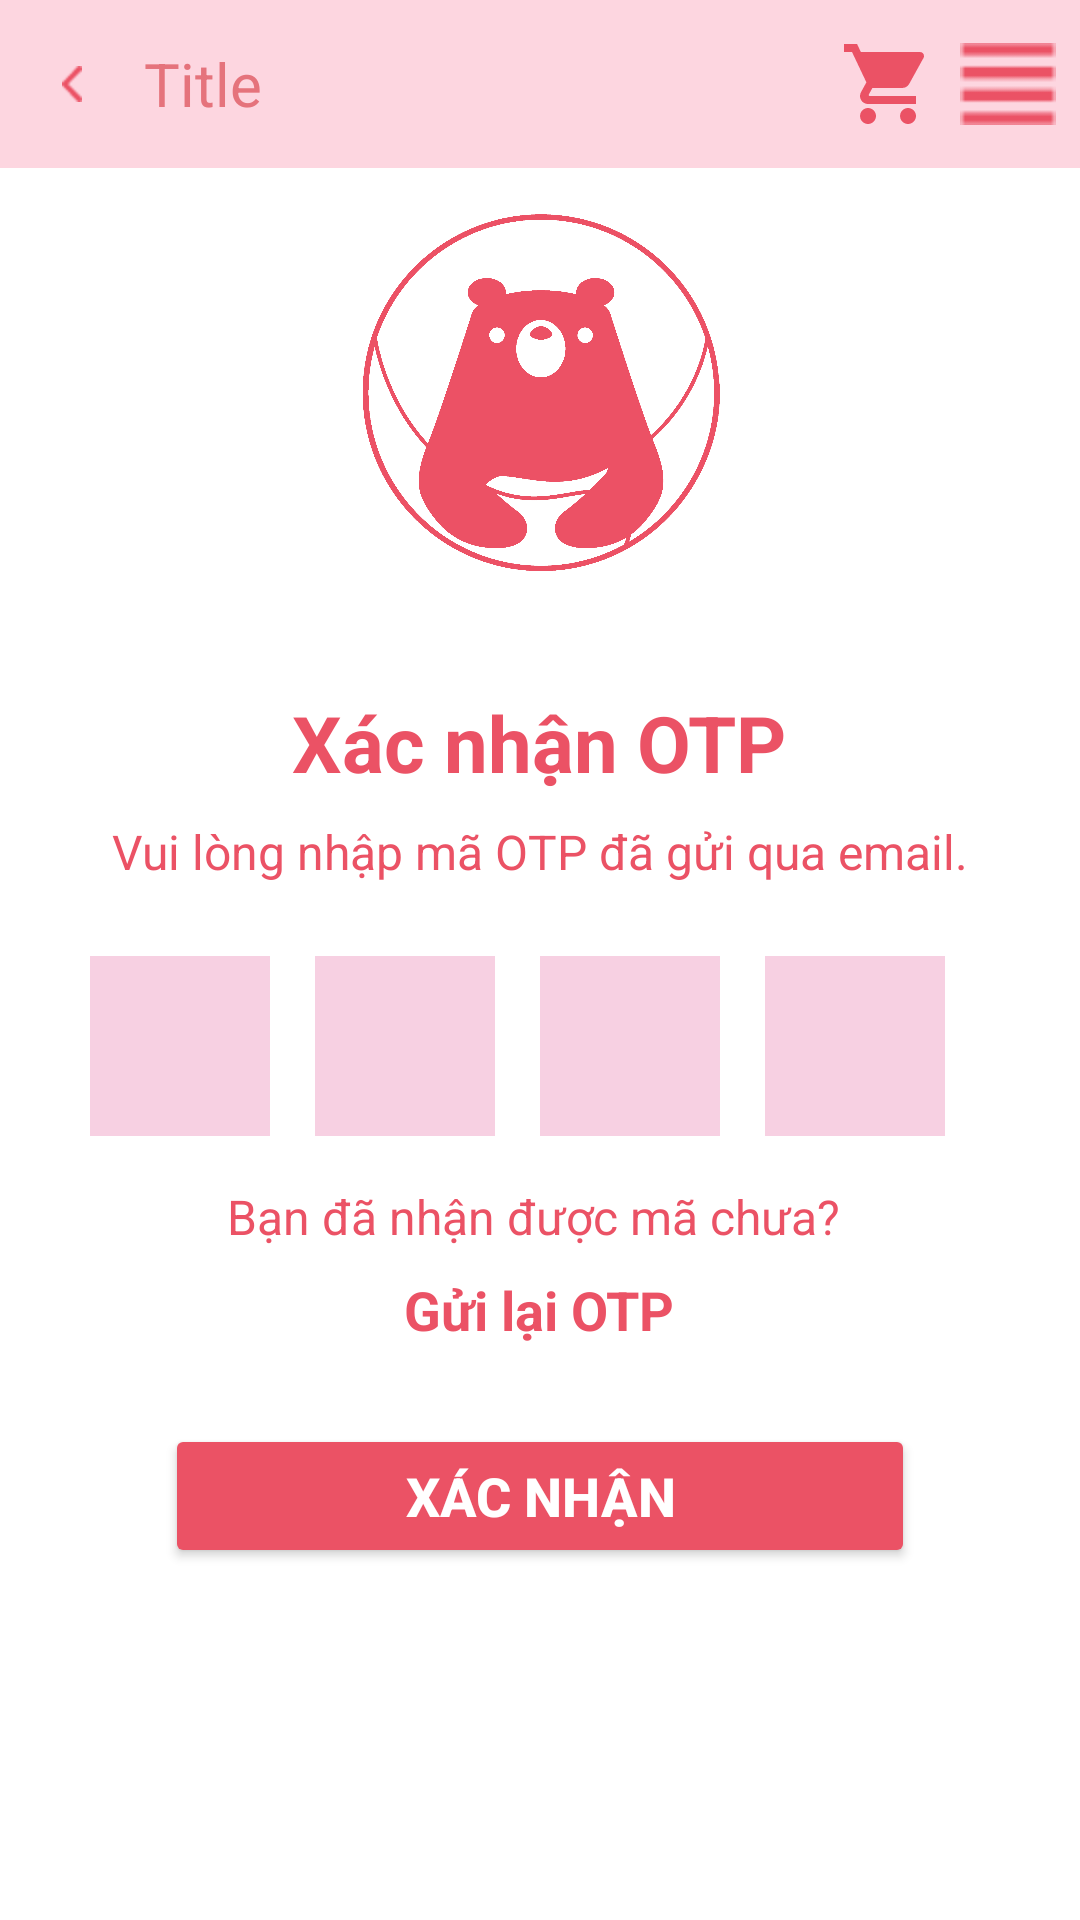

Locate icon controls on the screen. Image size 1080px x 1920px, boxes as (x1, y1, x2, y2).
back: (62, 66, 82, 102)
cart: (844, 44, 924, 124)
menu: (960, 43, 1056, 125)
